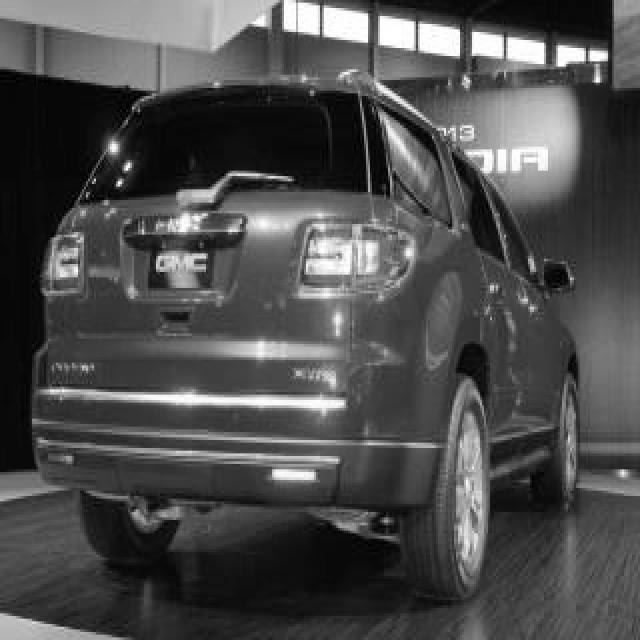Car: (33, 75, 575, 597)
